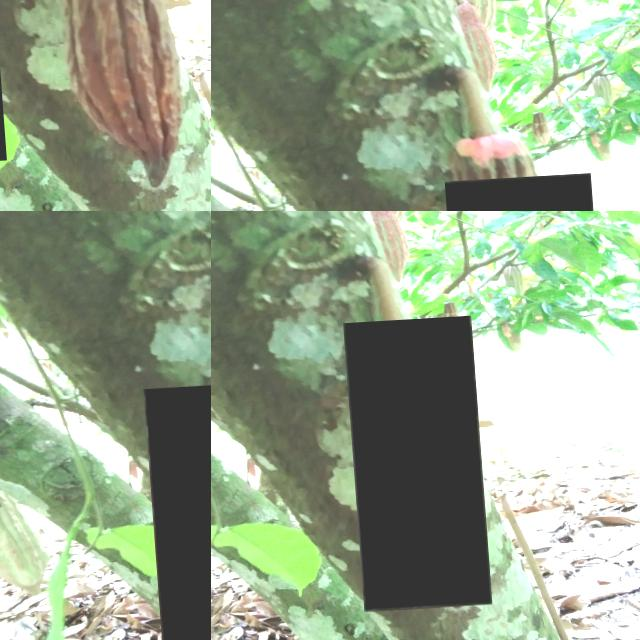Fitoftora: (340, 321, 485, 615), (139, 382, 211, 640)
Sana: (89, 402, 193, 511), (610, 75, 640, 211), (602, 72, 640, 166), (528, 116, 576, 180), (366, 211, 398, 267), (14, 418, 49, 467)
